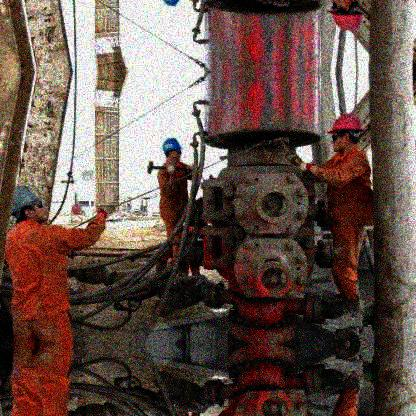helmet: (327, 115, 366, 154), (10, 186, 50, 223), (328, 1, 365, 32), (160, 135, 183, 161)
